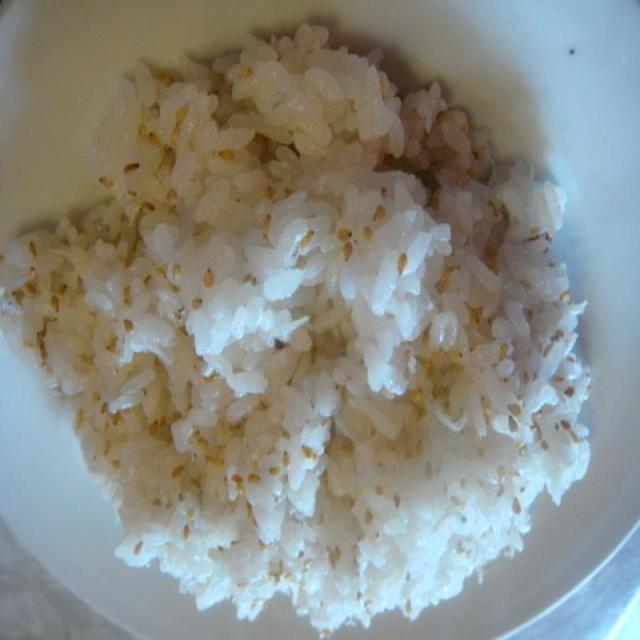nasi_putih: (1, 15, 589, 636)
